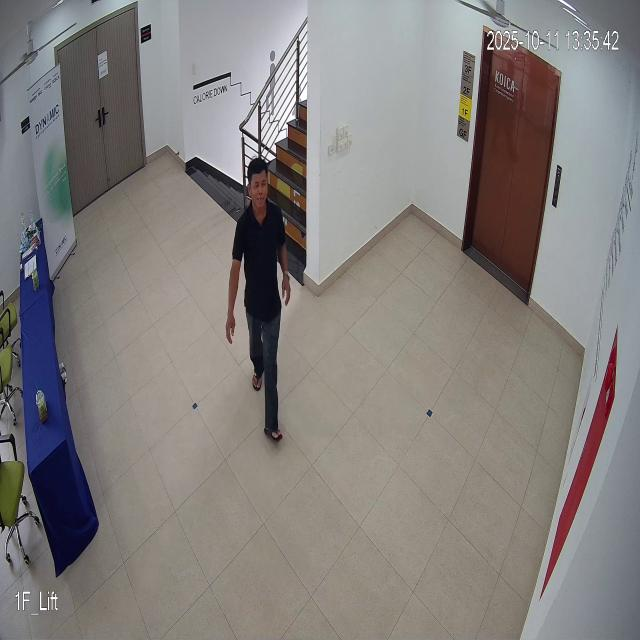face: (245, 154, 275, 217)
